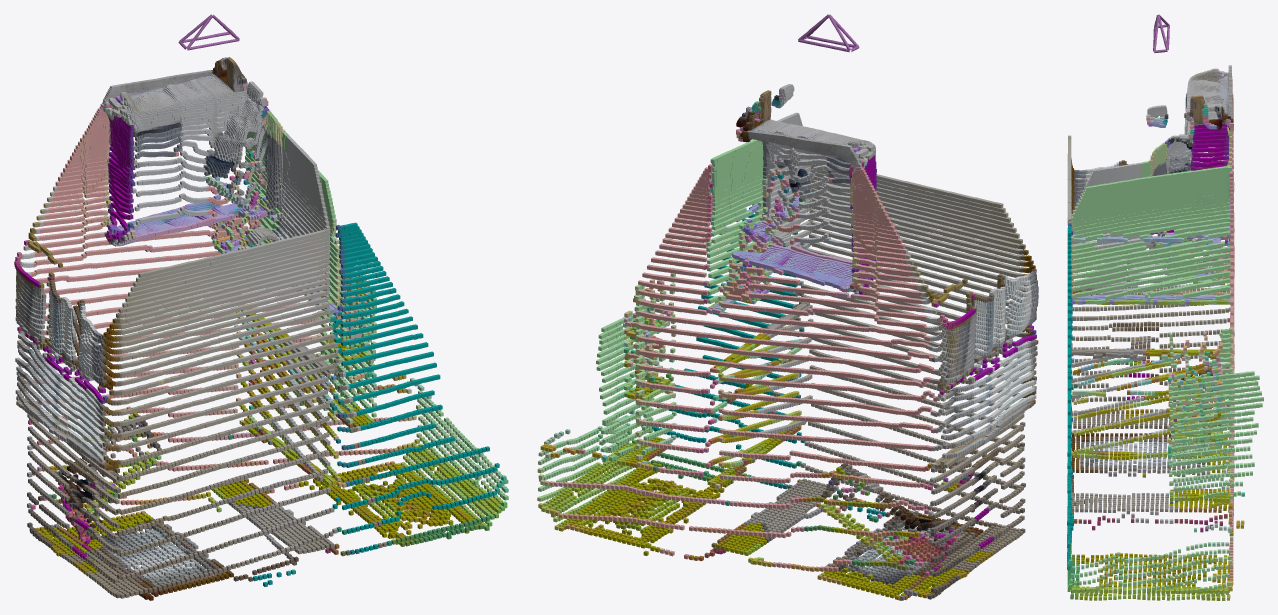
The picture shows the model from 3 angles, left to right: view 1: azimuth 30°, elevation 25°; view 2: azimuth 150°, elevation 25°; view 3: azimuth 270°, elevation 25°; orthographic projection. The views are drawn at different scales.
Size of the model in its own units: 6.39 by 8.03 by 2.94.
